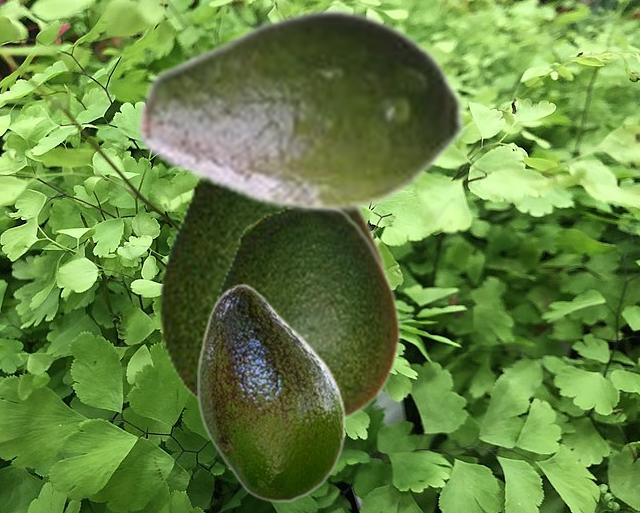avocado: (136, 6, 466, 214), (158, 179, 389, 404), (211, 209, 400, 423), (197, 283, 345, 501)
